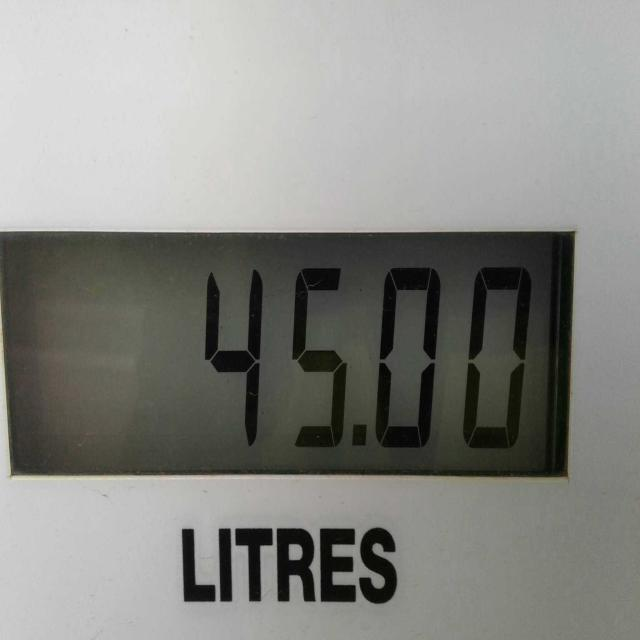.: (343, 405, 372, 472)
0: (454, 253, 536, 465), (367, 255, 443, 462)
4: (185, 246, 272, 465)
5: (281, 254, 352, 471)
